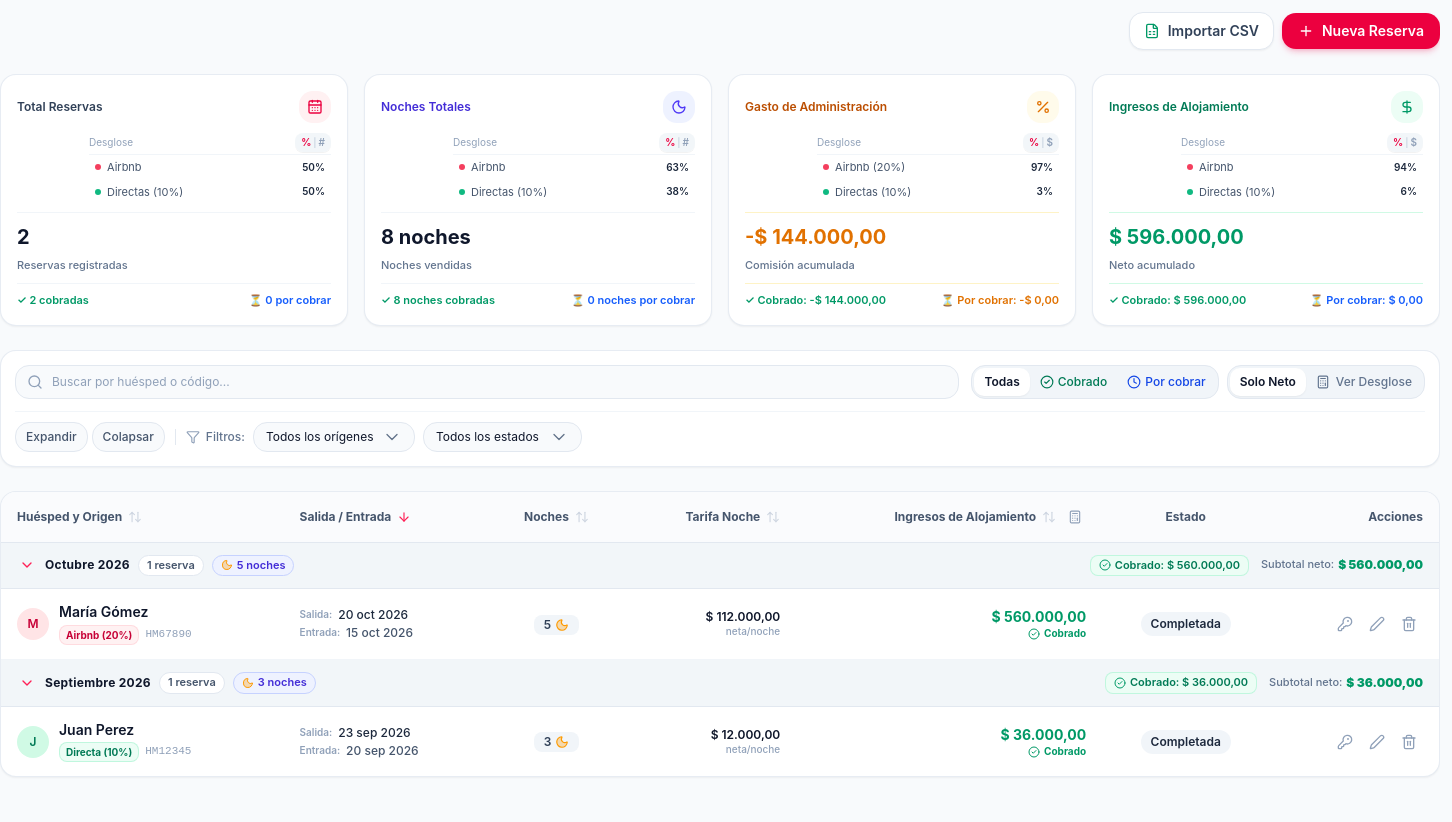
it: Bookings Route - Revenue Breakdown and Toggle › Month Grouping and Collapsing in Bookings › collapses a month when clicking its group header and expands when clicked again
Expected: the number of rows with test id "booking-row" is 2, top-left (1, 589), bottom-right (1439, 660); top-left (1, 706), bottom-right (1439, 776)
Expected: the text "Juan Perez" is shown, top-left (59, 721), bottom-right (134, 738)
Note: Click on Octubre header to collapse it
Click the text "Octubre 2026".
click(720, 565)  # box top-left (1, 542), bottom-right (1439, 589)
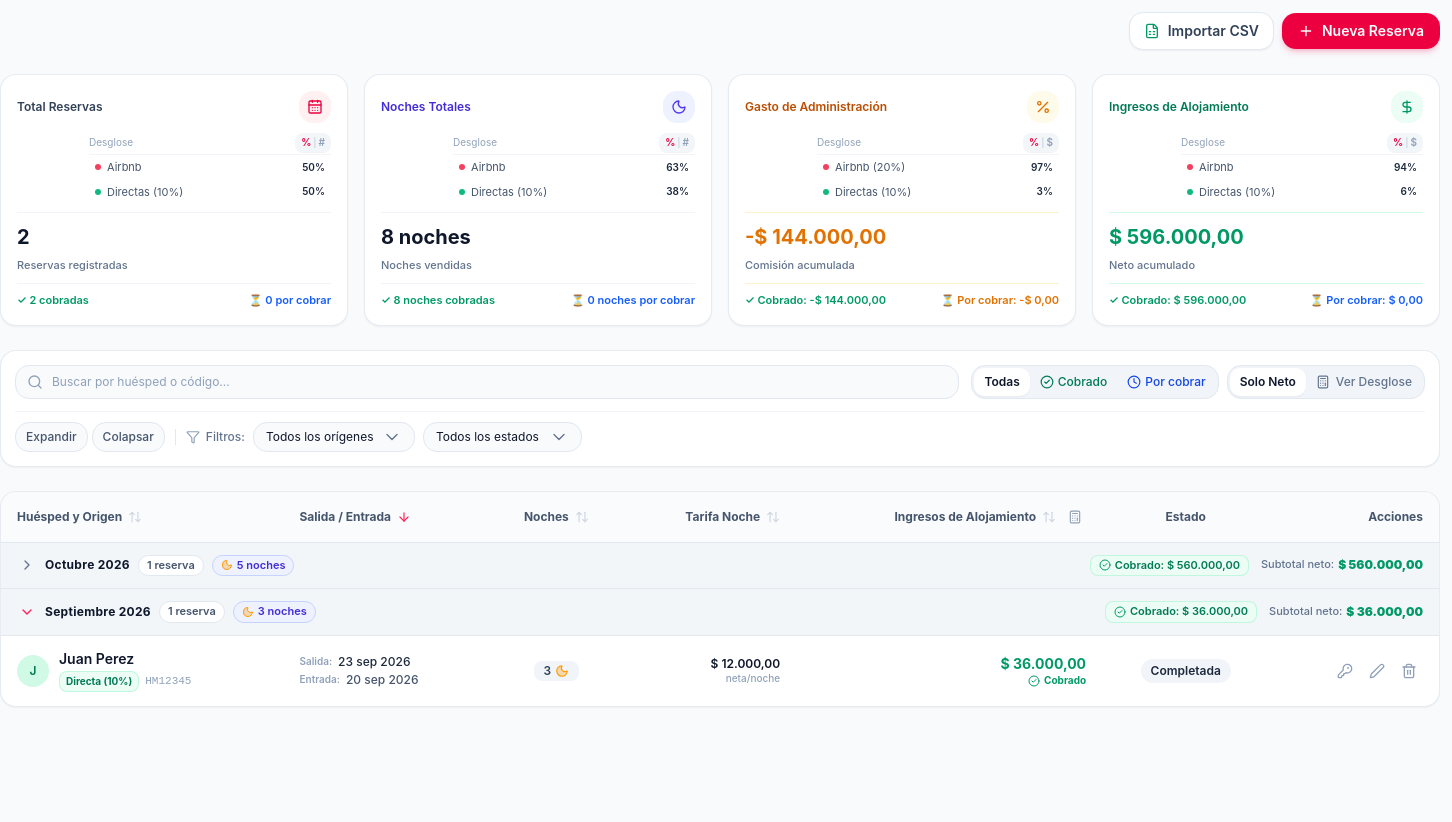
Expected: the text "Juan Perez" is shown, top-left (59, 650), bottom-right (134, 667)
Now the text "María Gómez" is gone
Now the number of rows with test id "booking-row" is 1, box top-left (1, 635), bottom-right (1439, 706)
Note: Click again to expand
Click the text "Octubre 2026".
click(720, 565)  # box top-left (1, 542), bottom-right (1439, 589)
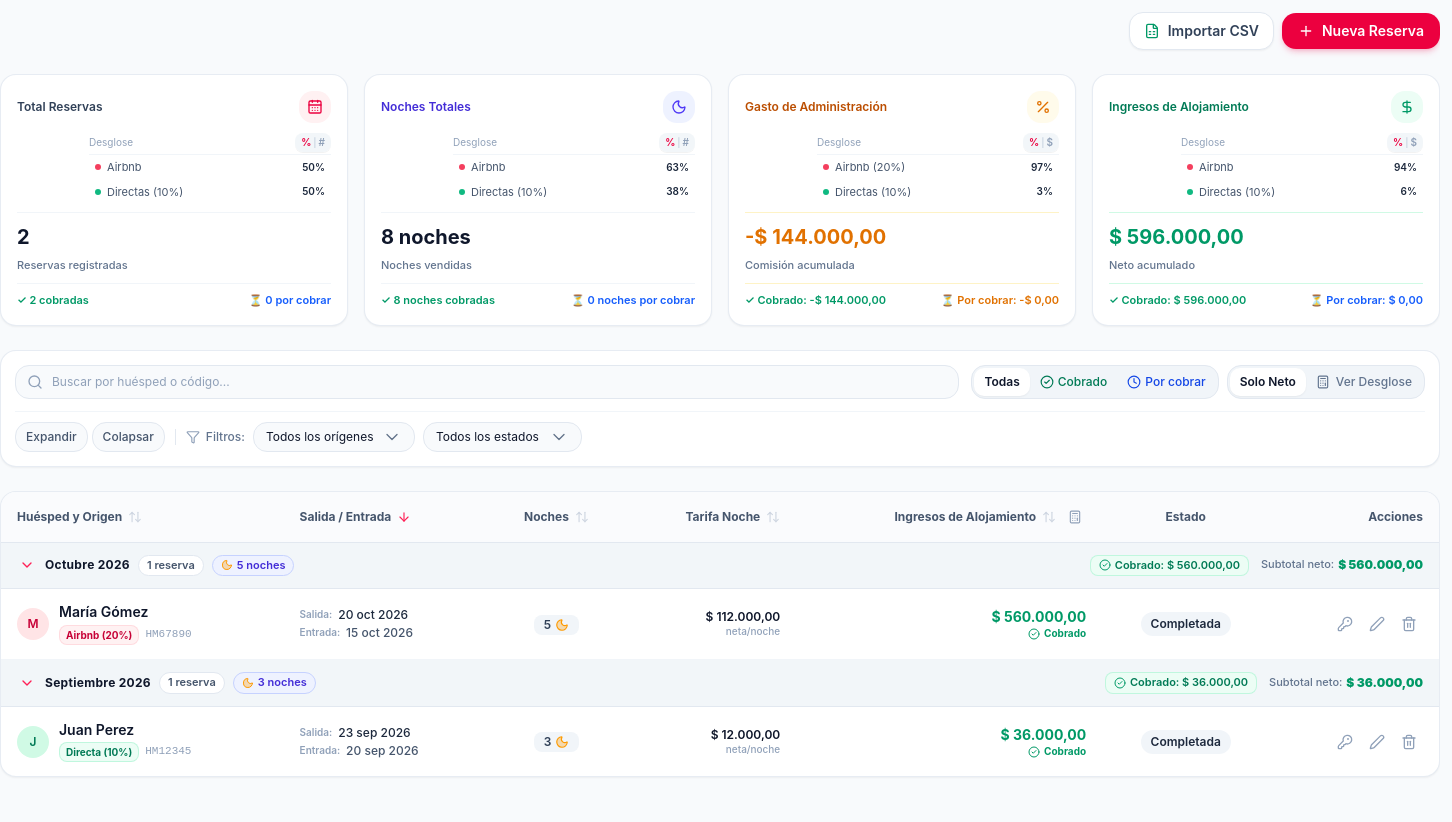
Now the text "María Gómez" is shown, box top-left (59, 603), bottom-right (148, 620)
Now the number of rows with test id "booking-row" is 2, box top-left (1, 589), bottom-right (1439, 660); top-left (1, 706), bottom-right (1439, 776)
